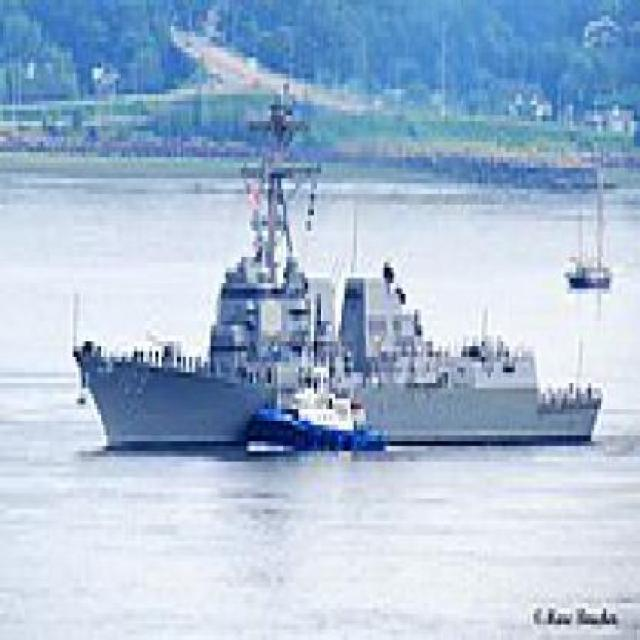warship2: (71, 122, 620, 489)
